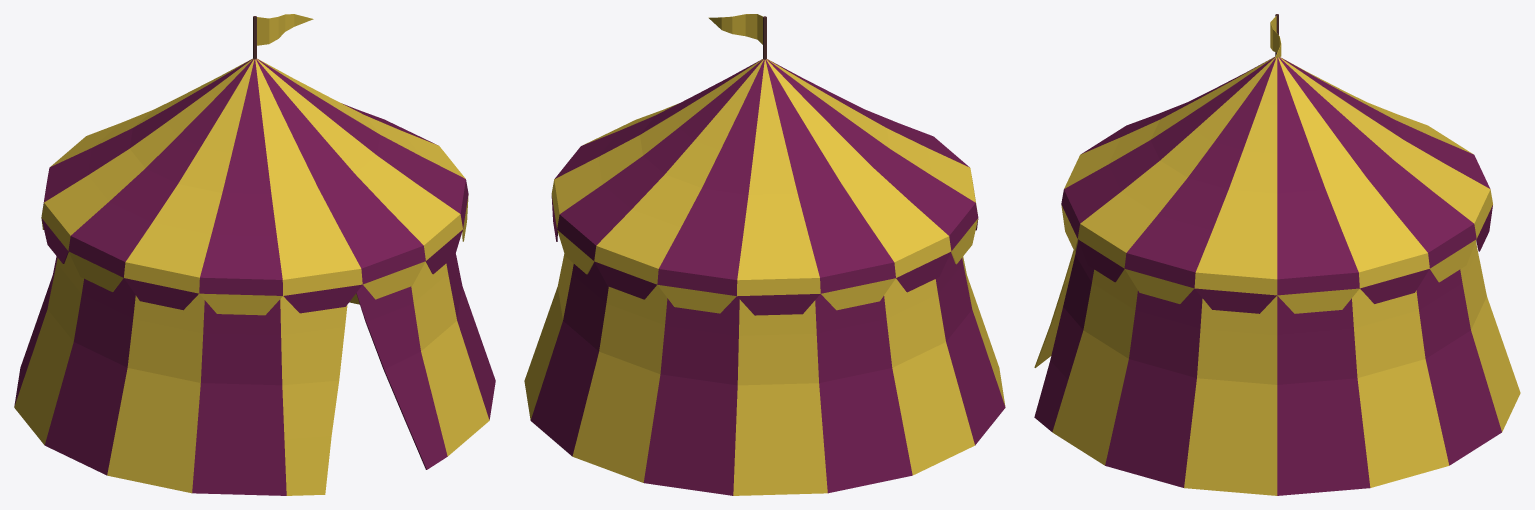
The model's file is Circus_tent.fbx.
3 renders of one model, left to right at view 1: azimuth 30°, elevation 25°; view 2: azimuth 150°, elevation 25°; view 3: azimuth 270°, elevation 25°, orthographic.
Parts seen in each view (by area): view 1: Cylinder, Plane; view 2: Cylinder, Plane; view 3: Cylinder.
Boxes of the visible parts, bbox=[...] form: Cylinder: bbox=[14, 58, 495, 495]; Plane: bbox=[257, 14, 313, 45]; Cylinder: bbox=[524, 59, 1005, 495]; Plane: bbox=[708, 14, 762, 44]; Cylinder: bbox=[1034, 56, 1520, 495].
Size of the model in its own units: 2080 by 2083 by 1796.
